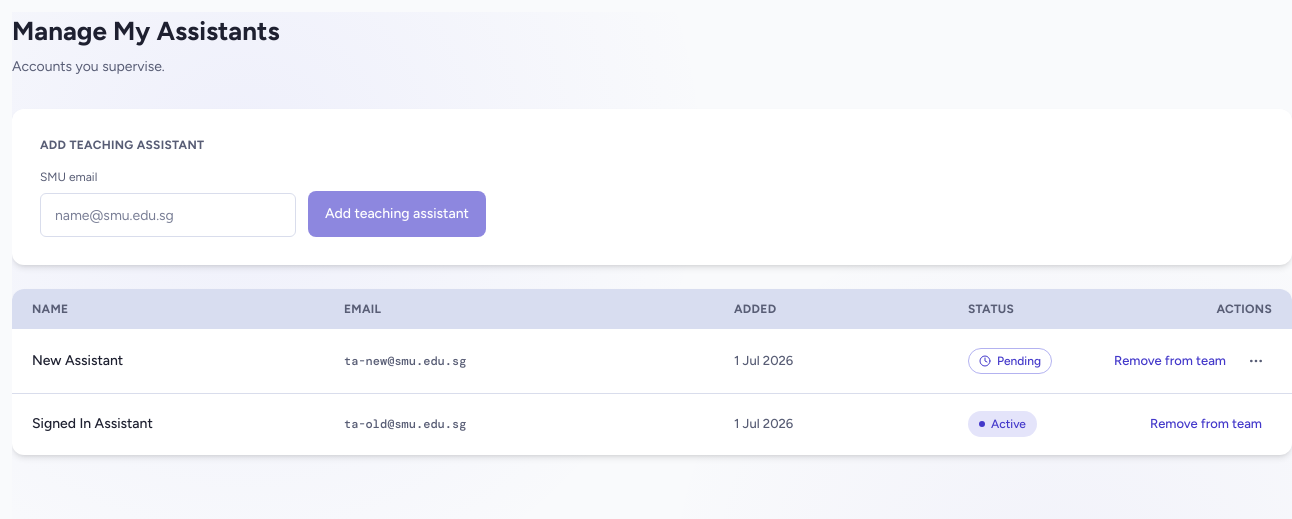
Test case: TeachingAssistantsPage - email typo check › swaps in the suggestion
Type "ann@gmial.com" into the field labelled "SMU email". click: x=168, y=215
box: [40,193,296,237]
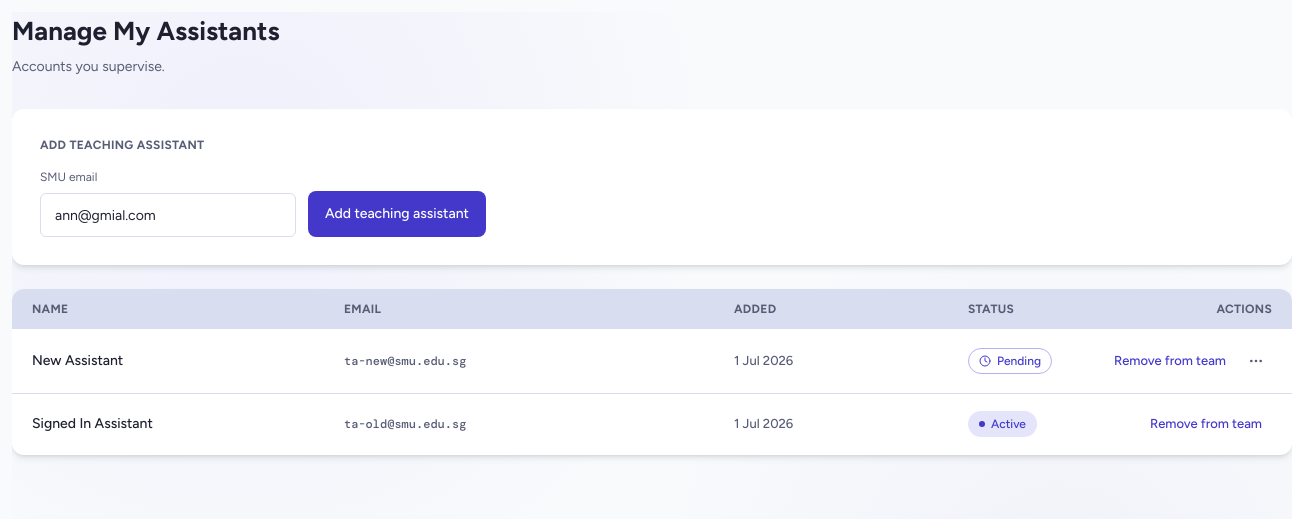
Click the button "Add teaching assistant". click: x=397, y=214
box: [308,191,486,237]
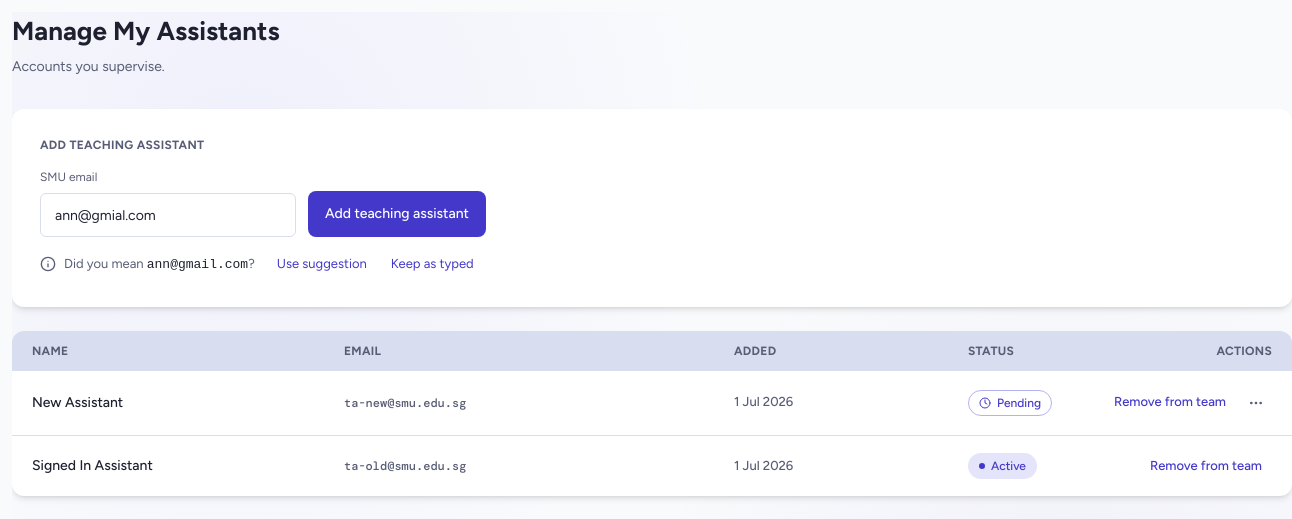
Click the button "Use suggestion". click: x=322, y=264
box: [267,249,377,278]
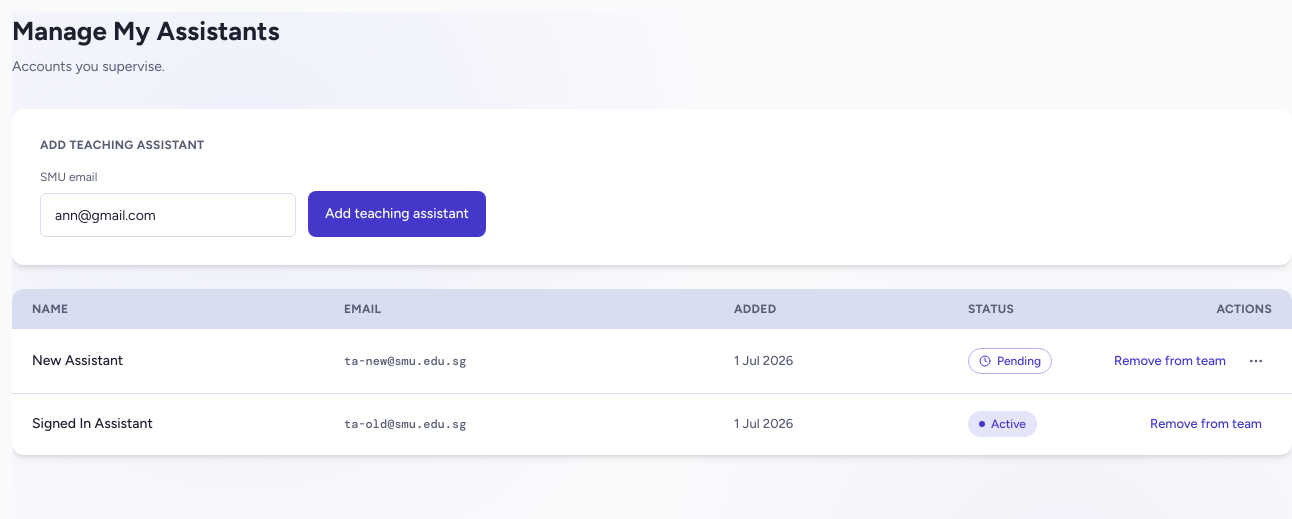
Expected: the field labelled "SMU email" holds "ann@gmail.com", [40,193,296,237]
